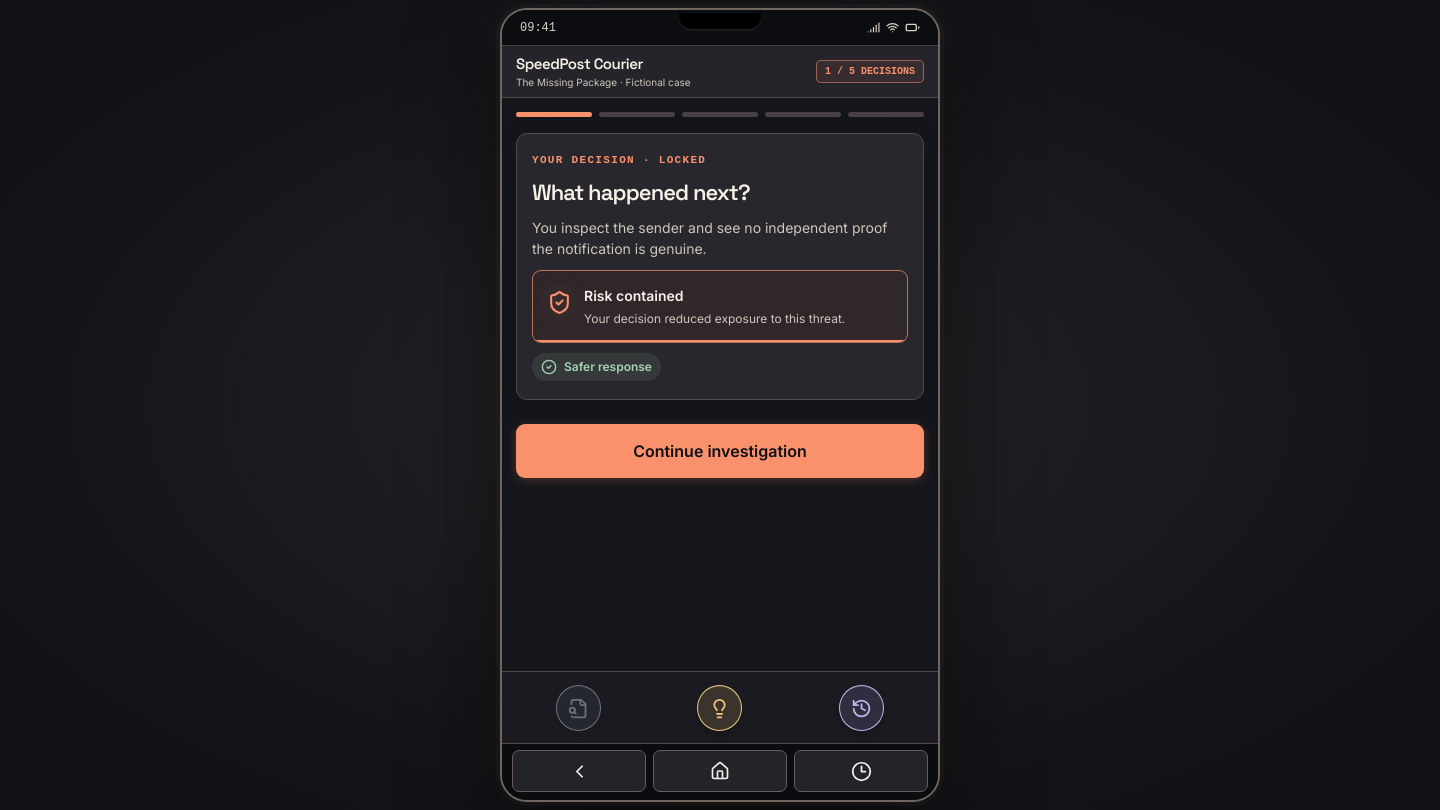
Test: Batch 2B.2 mobile phone controls › requires confirmation before restarting, clearing only selected mission
The width and height of the screenshot is (1440, 810).
Earlier steps of the test are not shown.
Click the button named "phone recent" at (861,771), box [794,750,928,792]
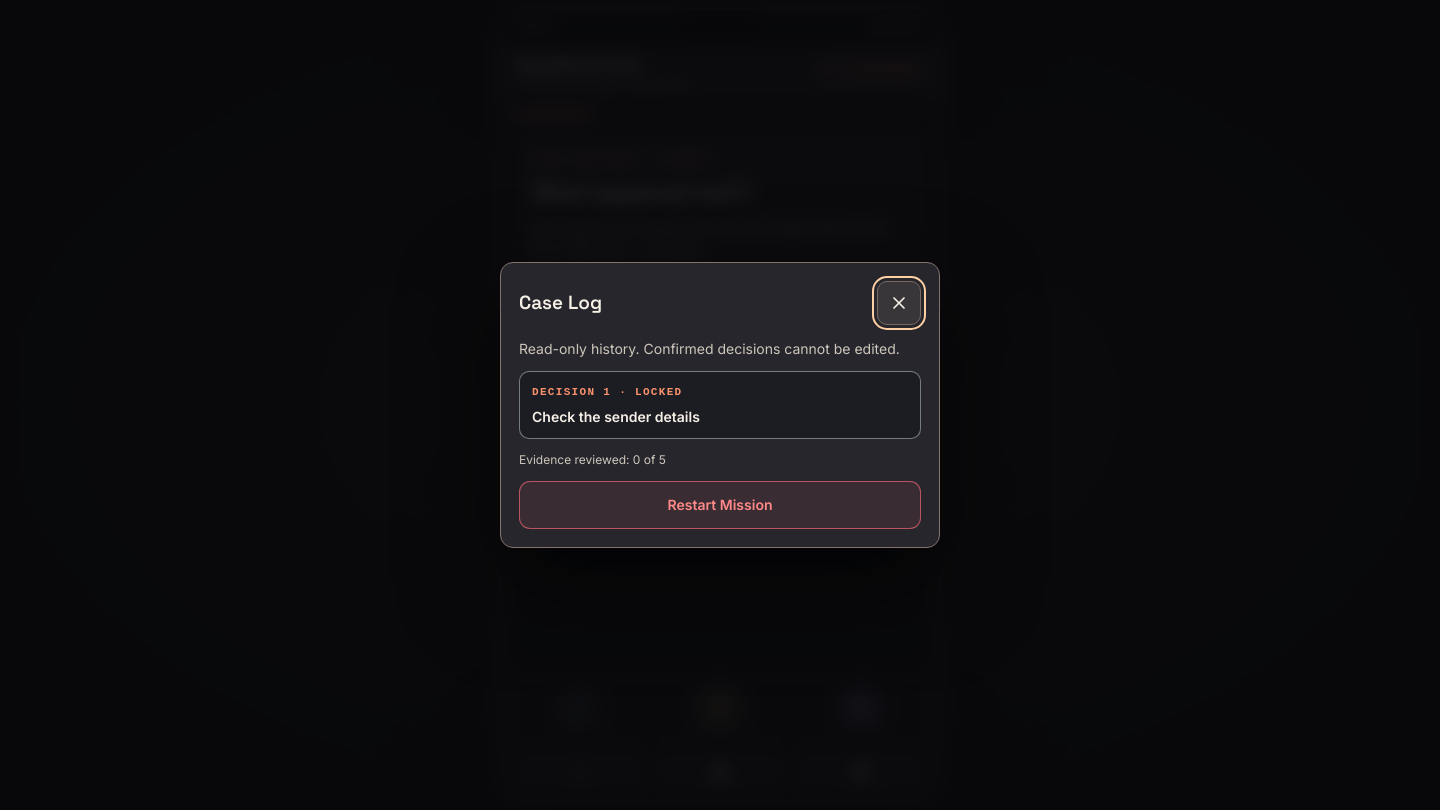
Click the button "Restart Mission" at (720,505), box [519,481,921,529]
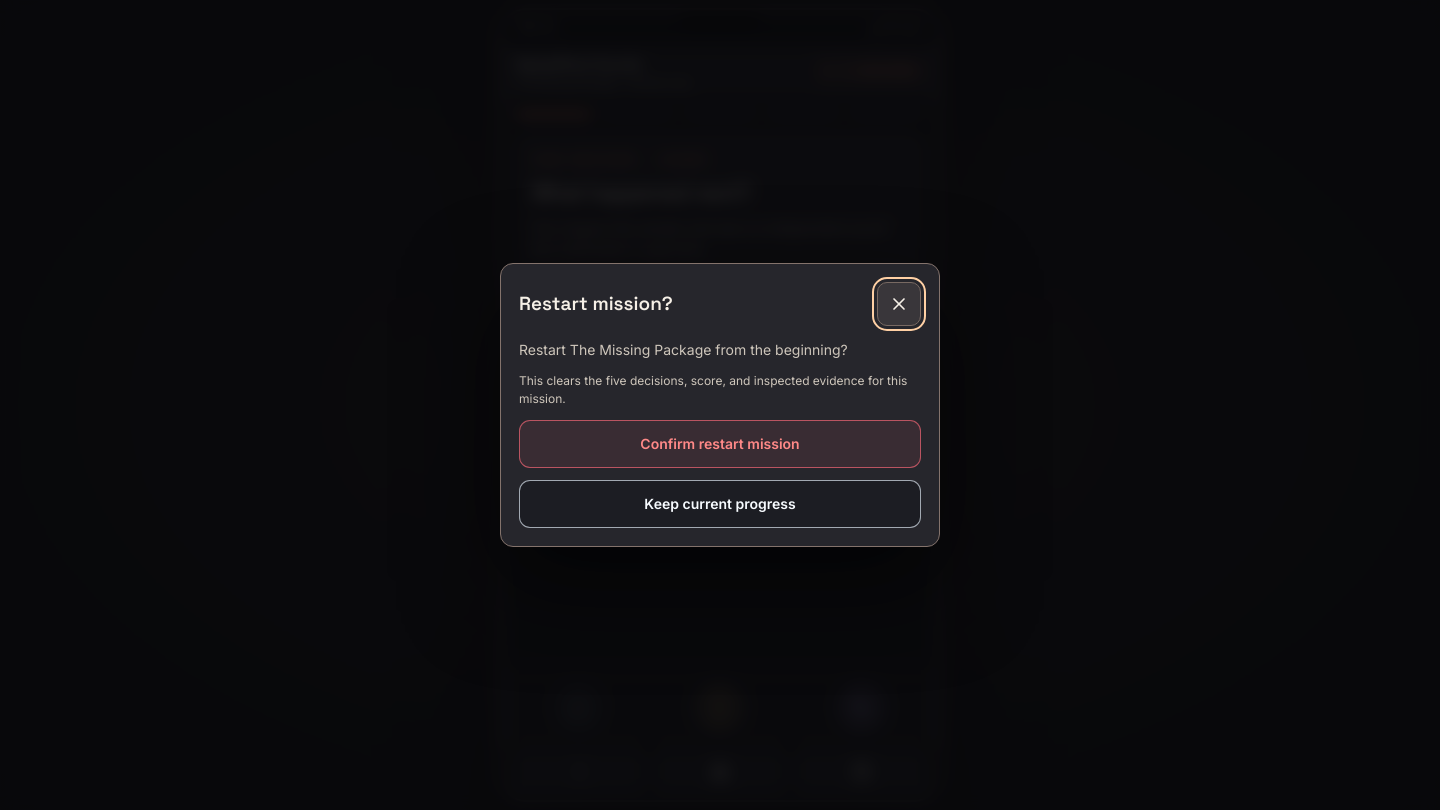
expect the dialog "Restart mission" is shown: met, box [500,263,940,547]
Click the button "Keep current progress" at (720,504), box [519,480,921,528]
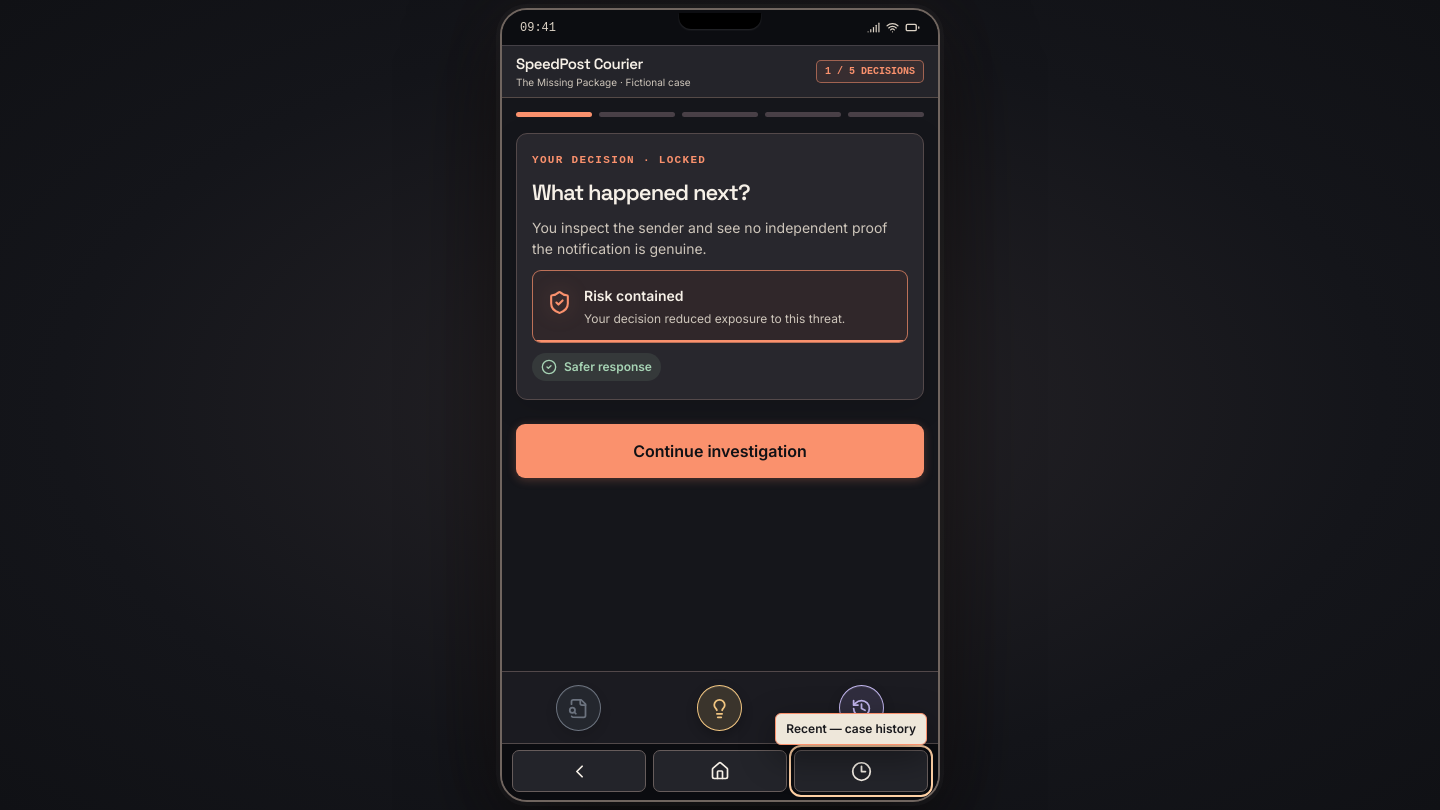
expect the progress indicator has attribute aria-valuenow="1": met, box [516,112,924,117]
Click the button named "phone recent" at (861,771), box [794,750,928,792]
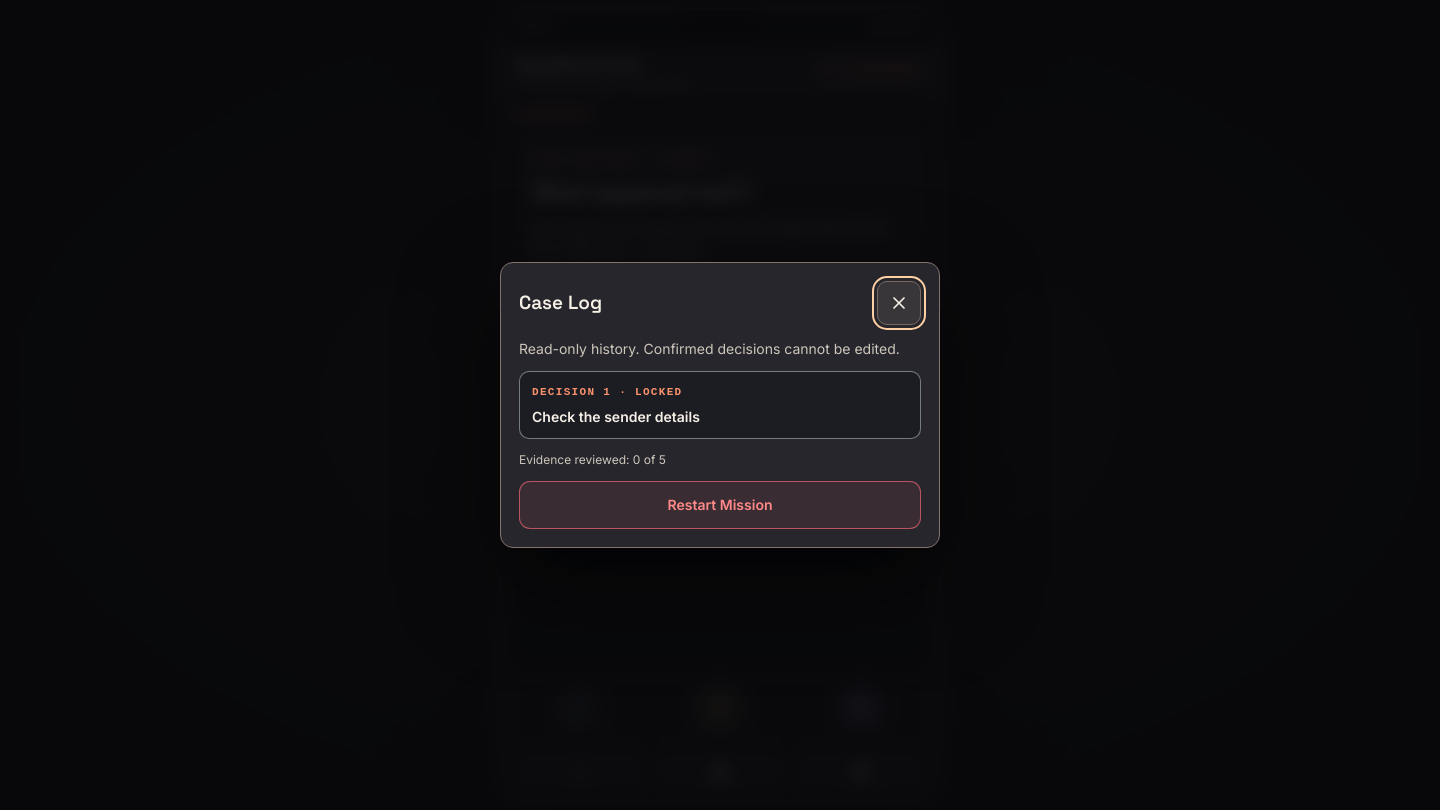
Click the button "Restart Mission" at (720,505), box [519,481,921,529]
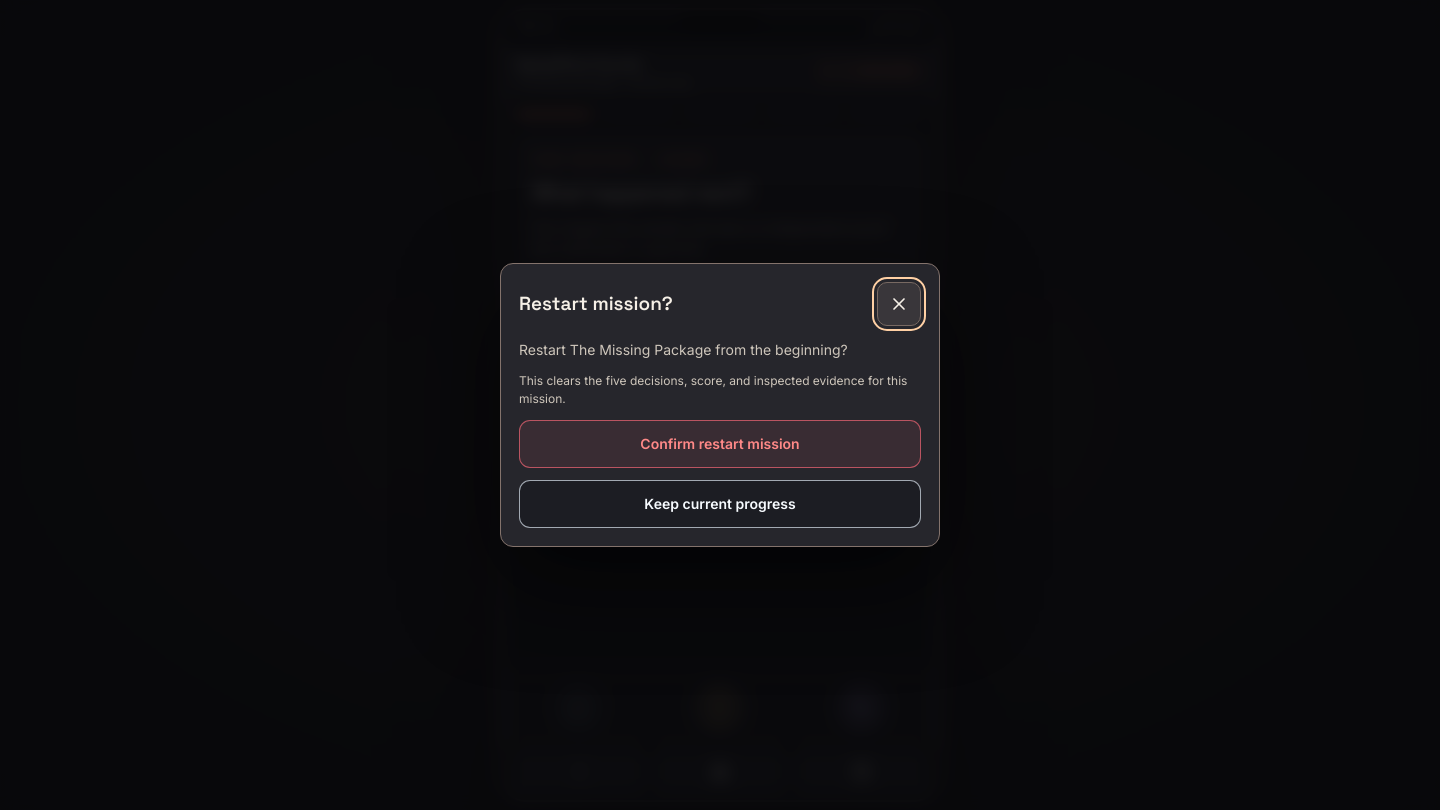
Click the button "Confirm restart mission" at (720,444), box [519,420,921,468]
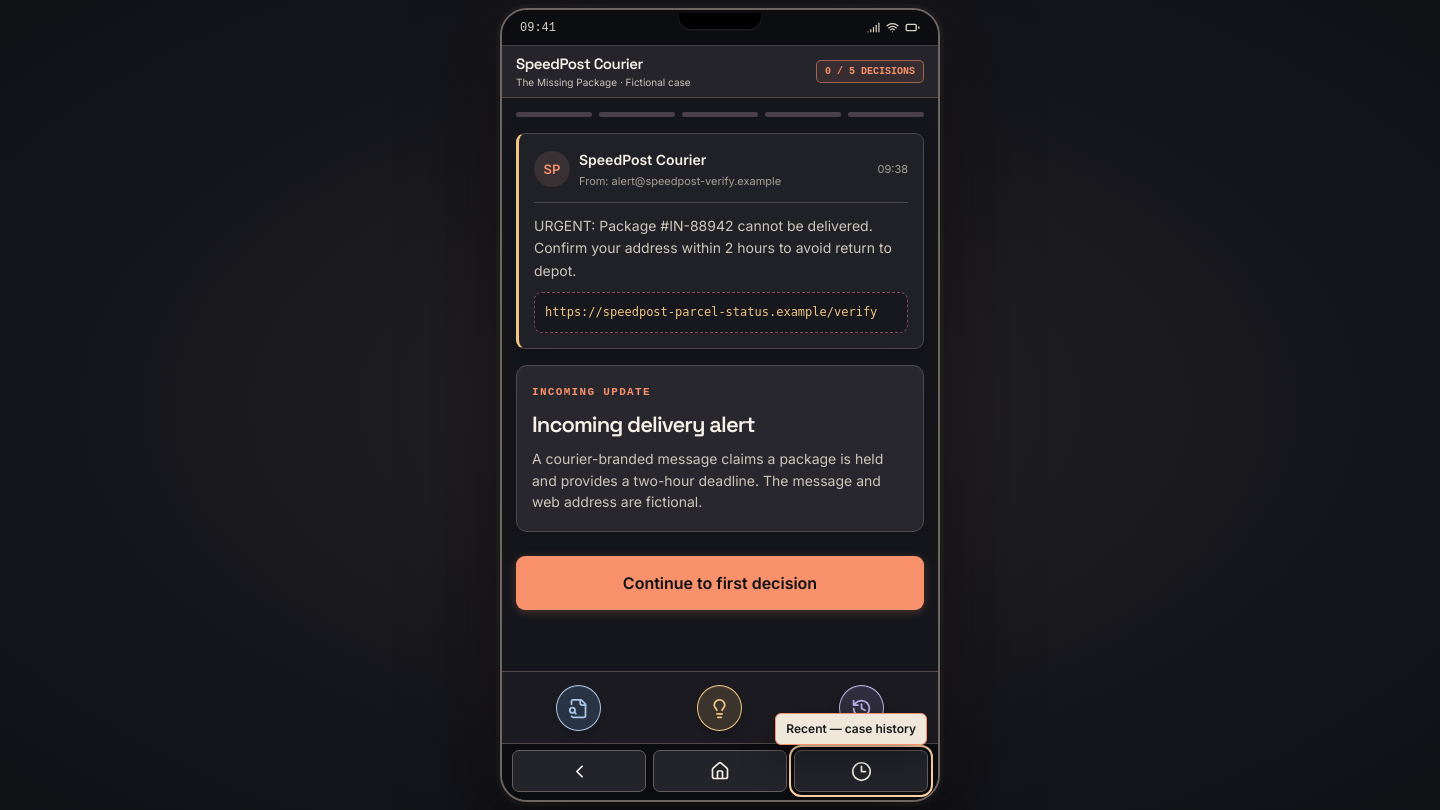
expect the heading "Incoming delivery alert" is shown: met, box [532,410,755,438]
